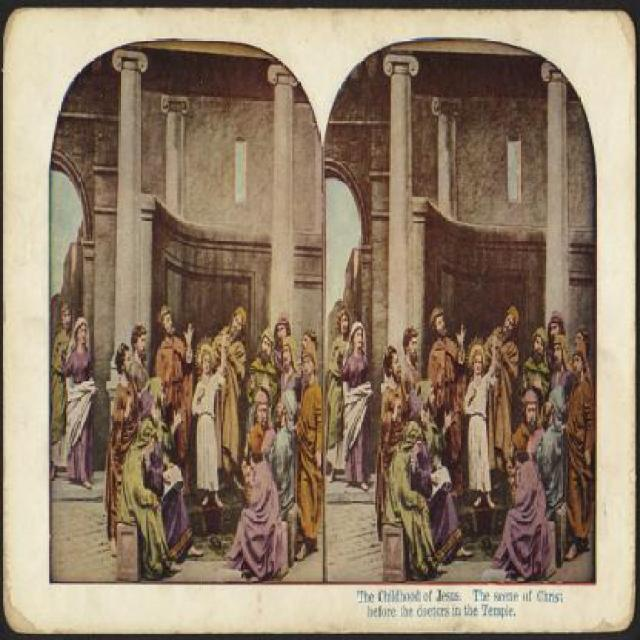Person: (103, 303, 326, 580), (374, 303, 595, 580), (289, 315, 325, 573), (56, 312, 98, 491), (335, 316, 373, 489), (49, 300, 74, 483), (326, 308, 351, 482)
